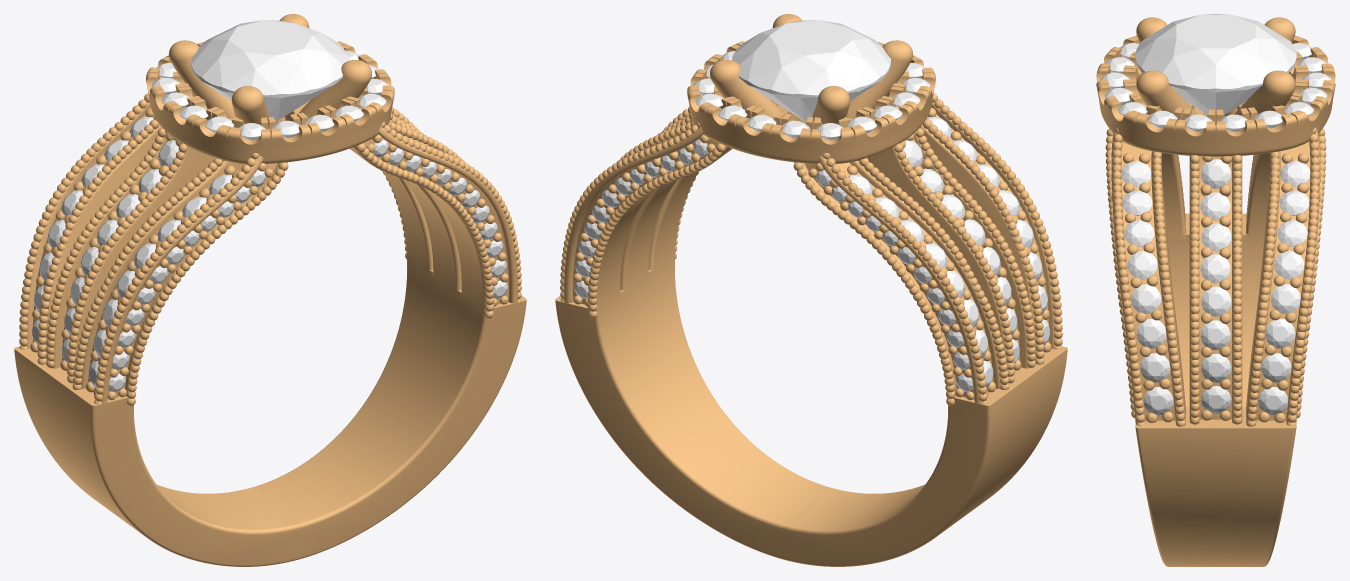
The picture shows the model from 3 angles, left to right: view 1: azimuth 30°, elevation 25°; view 2: azimuth 150°, elevation 25°; view 3: azimuth 270°, elevation 25°; orthographic projection.
Parts seen in each view (by area): view 1: /390965Masina DiamondsB-.3dm, object 115, object 128, object 126, object 125, object 124, object 127, object 116, object 129, object 117, object 131; view 2: /390965Masina DiamondsB-.3dm, object 115, object 123, object 125, object 126, object 127, object 124, object 117, object 122, object 116, object 120; view 3: /390965Masina DiamondsB-.3dm, object 115, object 120, object 131, object 121, object 130, object 118, object 119, object 122, object 129, object 5, object 8 (+26 smaller).
Boxes of the visible parts, x1,y1,x2,y2 form: /390965Masina DiamondsB-.3dm: [14, 14, 526, 566]; object 115: [191, 20, 349, 121]; object 128: [126, 162, 288, 405]; object 126: [94, 153, 259, 404]; object 125: [19, 93, 149, 349]; object 124: [37, 118, 159, 364]; object 127: [72, 158, 224, 389]; object 116: [46, 128, 166, 368]; object 129: [356, 143, 494, 318]; object 117: [67, 143, 187, 383]; object 131: [381, 122, 521, 302]; /390965Masina DiamondsB-.3dm: [555, 14, 1067, 566]; object 115: [732, 20, 890, 121]; object 123: [793, 162, 955, 405]; object 125: [822, 153, 987, 404]; object 126: [932, 93, 1062, 349]; object 127: [922, 118, 1044, 364]; object 124: [857, 158, 1009, 389]; object 117: [915, 128, 1035, 367]; object 122: [587, 143, 725, 318]; object 116: [894, 143, 1014, 383]; object 120: [560, 121, 700, 302]; /390965Masina DiamondsB-.3dm: [1096, 17, 1335, 566]; object 115: [1135, 14, 1296, 115]; object 120: [1286, 127, 1319, 425]; object 131: [1112, 127, 1145, 425]; object 121: [1246, 151, 1279, 426]; object 130: [1152, 151, 1185, 426]; object 118: [1189, 155, 1199, 424]; object 119: [1232, 155, 1241, 424]; object 122: [1296, 128, 1326, 418]; object 129: [1105, 128, 1134, 418]; object 5: [1201, 286, 1231, 316]; object 8: [1200, 320, 1230, 350].
Bounding box in the file's own units: 2.55 × 2.84 × 1.2.
